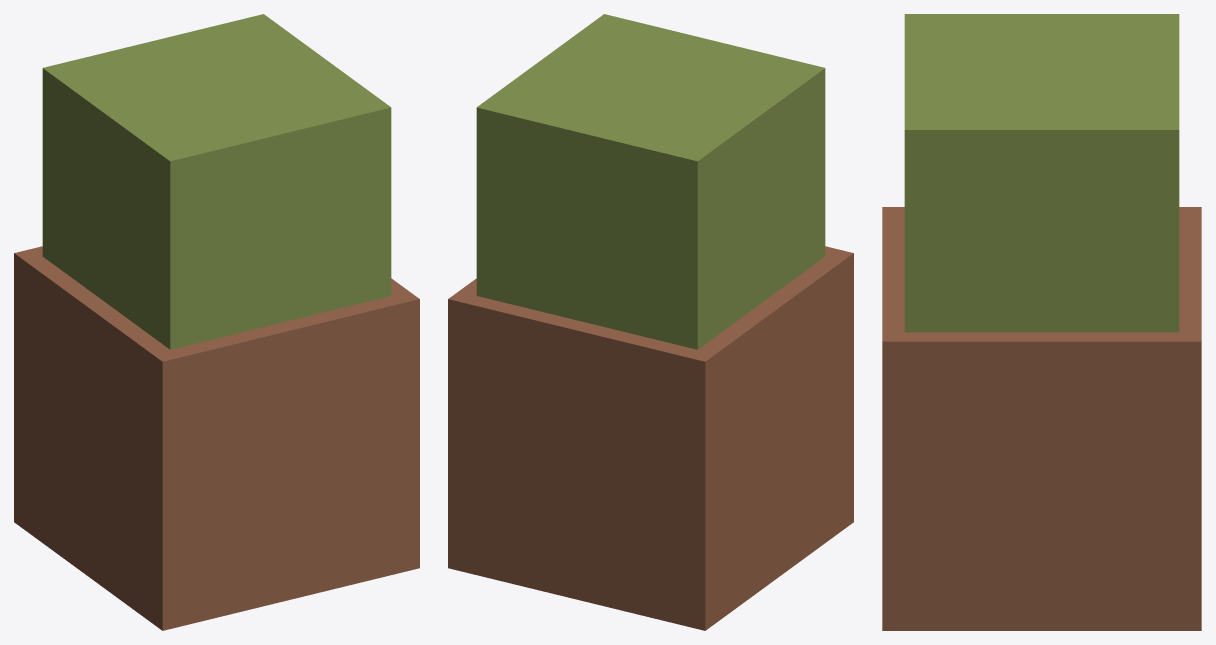
The model's file is GardenBed2.fbx.
The picture shows the model from 3 angles, left to right: view 1: azimuth 30°, elevation 25°; view 2: azimuth 150°, elevation 25°; view 3: azimuth 270°, elevation 25°; orthographic projection. The views are drawn at different scales.
Parts seen in each view (by area): view 1: GardenBed2; view 2: GardenBed2; view 3: GardenBed2.
Boxes of the visible parts, left/top/right/bottom form: GardenBed2: left=14, top=14, right=419, bottom=630; GardenBed2: left=448, top=14, right=853, bottom=630; GardenBed2: left=882, top=14, right=1201, bottom=630.
Bounding box in the file's own units: 0.625 × 1.06 × 0.625.
